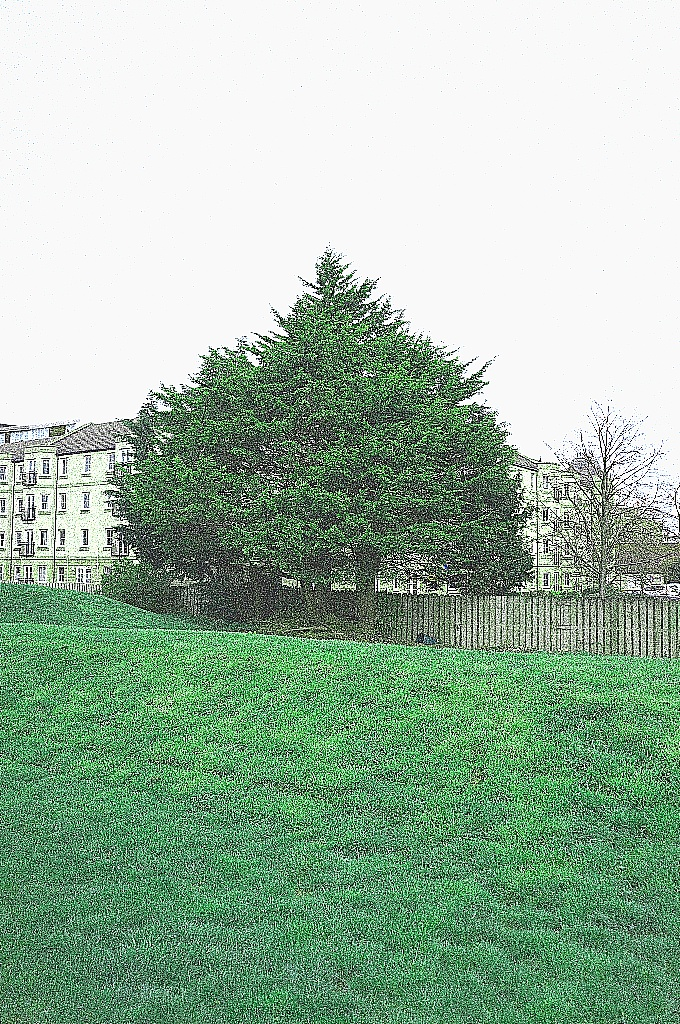Tree: (59, 202, 537, 679), (545, 390, 676, 602)
